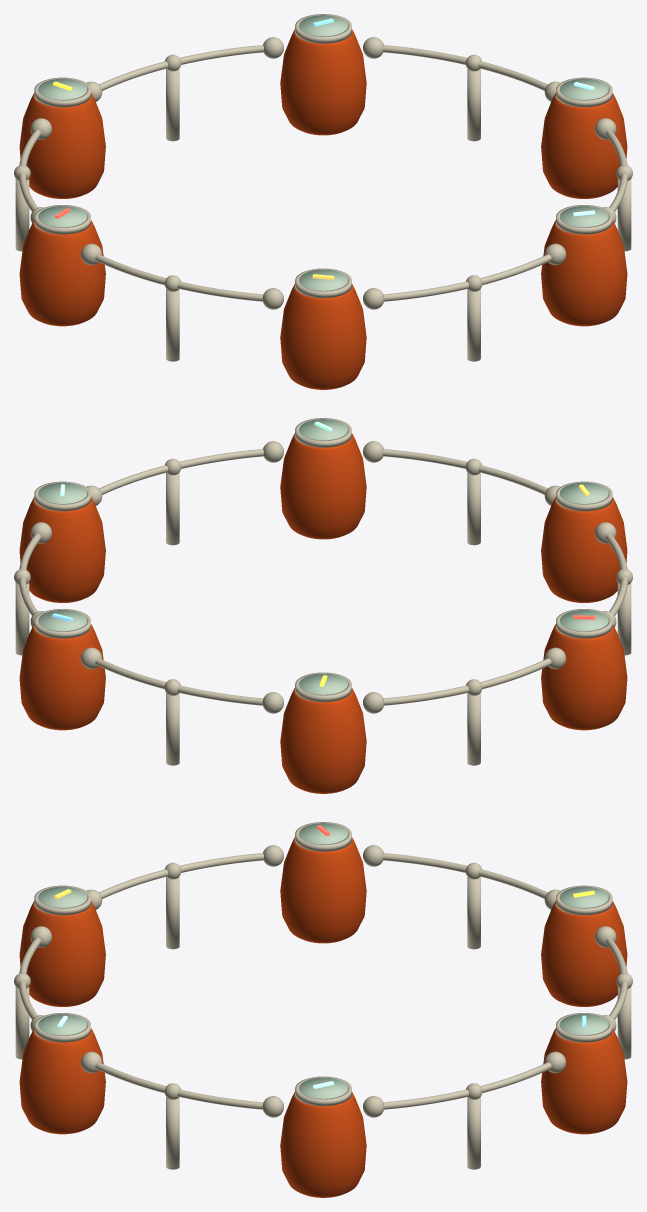
File: horovod-controllers-v13.glb
3 views of the same model, one above another, from view 1: azimuth 30°, elevation 25°; view 2: azimuth 150°, elevation 25°; view 3: azimuth 270°, elevation 25° (orthographic).
Visible parts, largest first — view 1: CTRL-02_Pedestal, CTRL-05_Pedestal, CTRL-06_Pedestal, CTRL-04_Pedestal, CTRL-03_Pedestal, CTRL-01_Pedestal, CTRL-RING-04, CTRL-RING-05, CTRL-RING-01, CTRL-RING-02, CTRL-POST-04, CTRL-POST-05 (+18 smaller); view 2: CTRL-06_Pedestal, CTRL-03_Pedestal, CTRL-02_Pedestal, CTRL-04_Pedestal, CTRL-05_Pedestal, CTRL-01_Pedestal, CTRL-RING-02, CTRL-RING-03, CTRL-RING-06, CTRL-RING-05, CTRL-POST-02, CTRL-POST-03 (+18 smaller); view 3: CTRL-04_Pedestal, CTRL-01_Pedestal, CTRL-02_Pedestal, CTRL-06_Pedestal, CTRL-03_Pedestal, CTRL-05_Pedestal, CTRL-RING-01, CTRL-RING-06, CTRL-RING-03, CTRL-RING-04, CTRL-POST-01, CTRL-POST-06 (+18 smaller).
Boxes of the visible parts, x1,y1,x2,y2 form: CTRL-02_Pedestal: (280, 29, 366, 135); CTRL-05_Pedestal: (280, 284, 366, 389); CTRL-06_Pedestal: (541, 220, 627, 326); CTRL-04_Pedestal: (19, 220, 105, 326); CTRL-03_Pedestal: (19, 93, 105, 198); CTRL-01_Pedestal: (541, 93, 627, 198); CTRL-RING-04: (95, 254, 263, 301); CTRL-RING-05: (383, 254, 551, 301); CTRL-RING-01: (383, 45, 547, 90); CTRL-RING-02: (99, 45, 263, 90); CTRL-POST-04: (166, 289, 179, 361); CTRL-POST-05: (467, 289, 480, 361); CTRL-06_Pedestal: (280, 433, 366, 539); CTRL-03_Pedestal: (280, 688, 366, 793); CTRL-02_Pedestal: (19, 624, 105, 730); CTRL-04_Pedestal: (541, 624, 627, 730); CTRL-05_Pedestal: (541, 497, 627, 602); CTRL-01_Pedestal: (19, 497, 105, 602); CTRL-RING-02: (95, 658, 263, 705); CTRL-RING-03: (383, 658, 551, 705); CTRL-RING-06: (99, 449, 263, 494); CTRL-RING-05: (383, 449, 547, 494); CTRL-POST-02: (166, 693, 179, 765); CTRL-POST-03: (467, 693, 480, 765); CTRL-04_Pedestal: (280, 837, 366, 943); CTRL-01_Pedestal: (280, 1092, 366, 1197); CTRL-02_Pedestal: (541, 1028, 627, 1134); CTRL-06_Pedestal: (19, 1028, 105, 1134); CTRL-03_Pedestal: (541, 901, 627, 1006); CTRL-05_Pedestal: (19, 901, 105, 1006); CTRL-RING-01: (383, 1062, 551, 1109); CTRL-RING-06: (95, 1062, 263, 1109); CTRL-RING-03: (383, 853, 547, 898); CTRL-RING-04: (99, 853, 263, 898); CTRL-POST-01: (467, 1097, 480, 1169); CTRL-POST-06: (166, 1097, 179, 1169).
Size of the model in its own units: 6.06 by 1 by 5.45.
